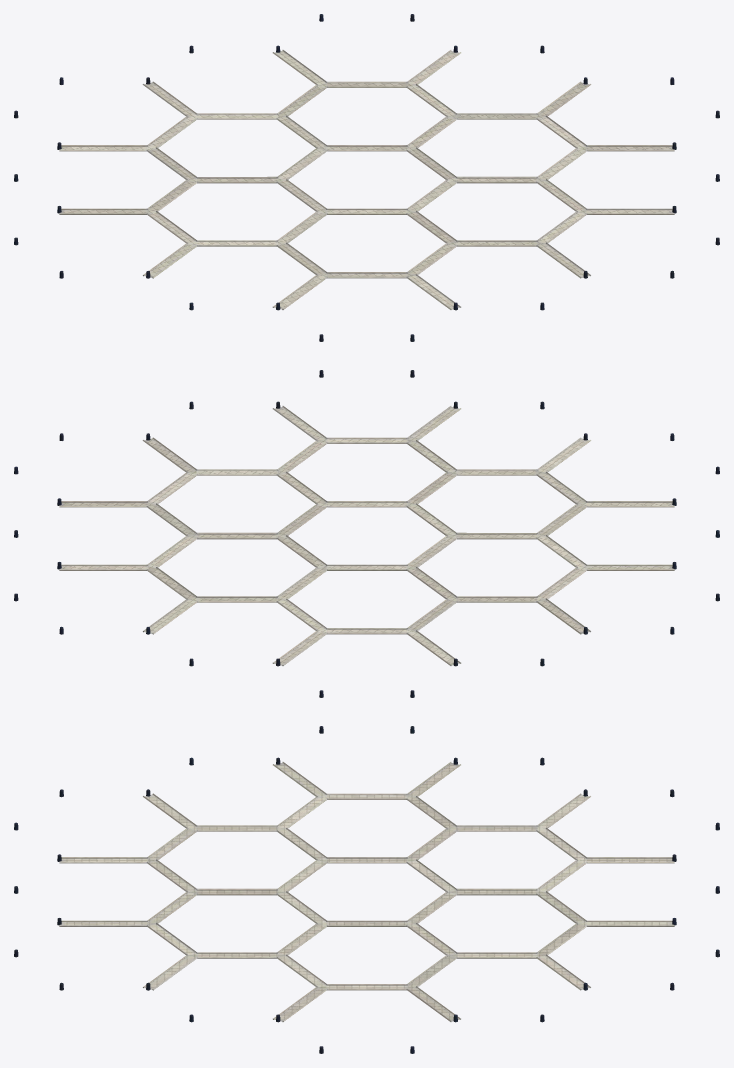
File: ground-15.glb
3 views of the same model, one above another, from view 1: azimuth 30°, elevation 25°; view 2: azimuth 150°, elevation 25°; view 3: azimuth 270°, elevation 25° (orthographic).
Visible parts, largest first — view 1: ground-15; view 2: ground-15; view 3: ground-15.
Boxes of the visible parts, <box> form: ground-15: <box>14,14,719,341</box>; ground-15: <box>14,370,719,697</box>; ground-15: <box>14,726,719,1053</box>.
Size of the model in its own units: 10.16 by 0.0899 by 9.41.
Materials: 1 (1 with a texture image).
